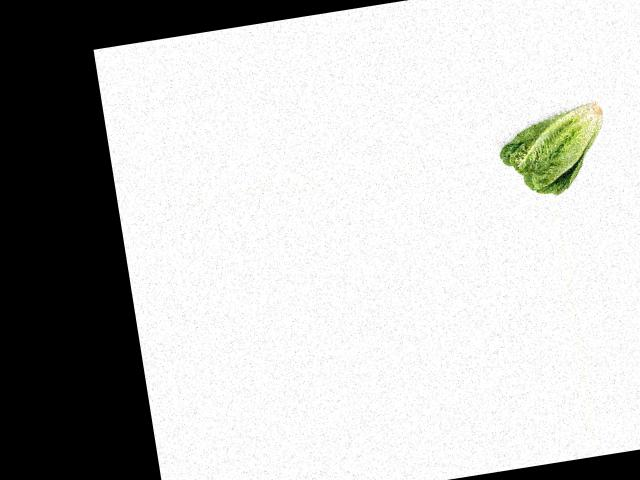lettuce: (494, 99, 615, 202)
